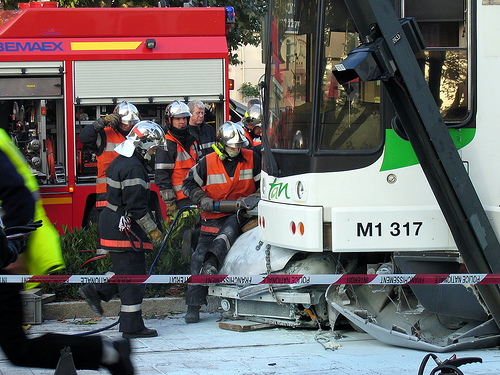helmet: (128, 122, 171, 154), (164, 102, 191, 129), (215, 124, 248, 146), (113, 102, 140, 123)
